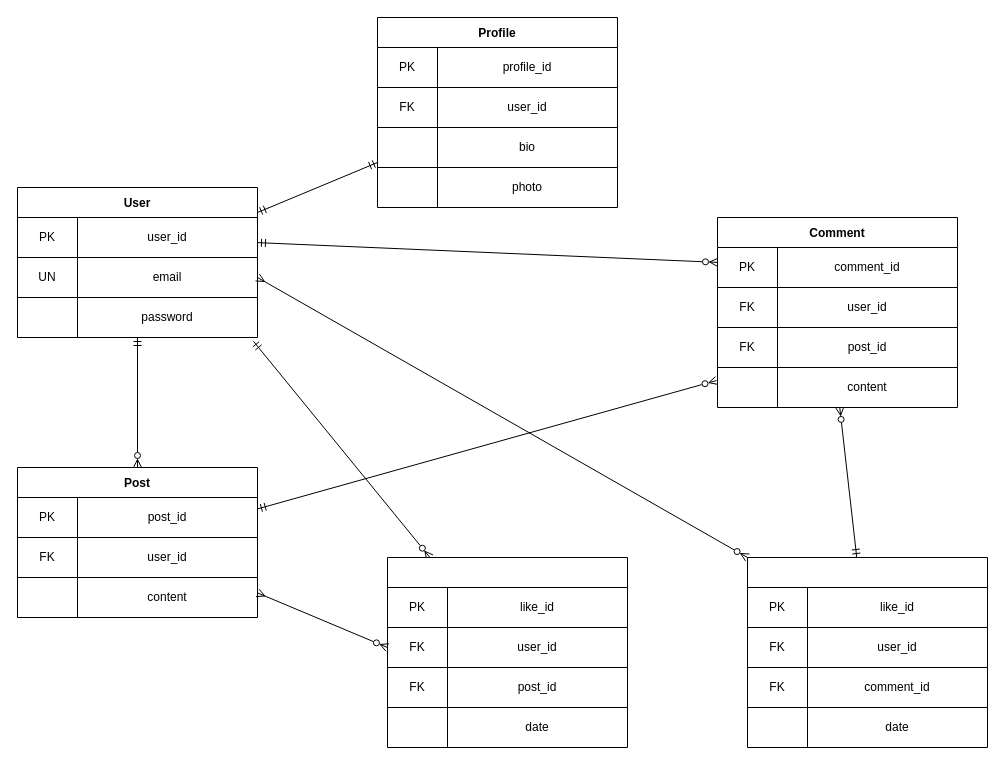
Some shapes in this 1005 by 765 pixel diagram are drawn without their labels. The shapes that lost their labels are listed below. From the top down, each one's box as (x1, y1, x2, y2) in pixels, then its label:
(386, 556, 628, 748): LikePost
(746, 556, 988, 748): LikeComment
